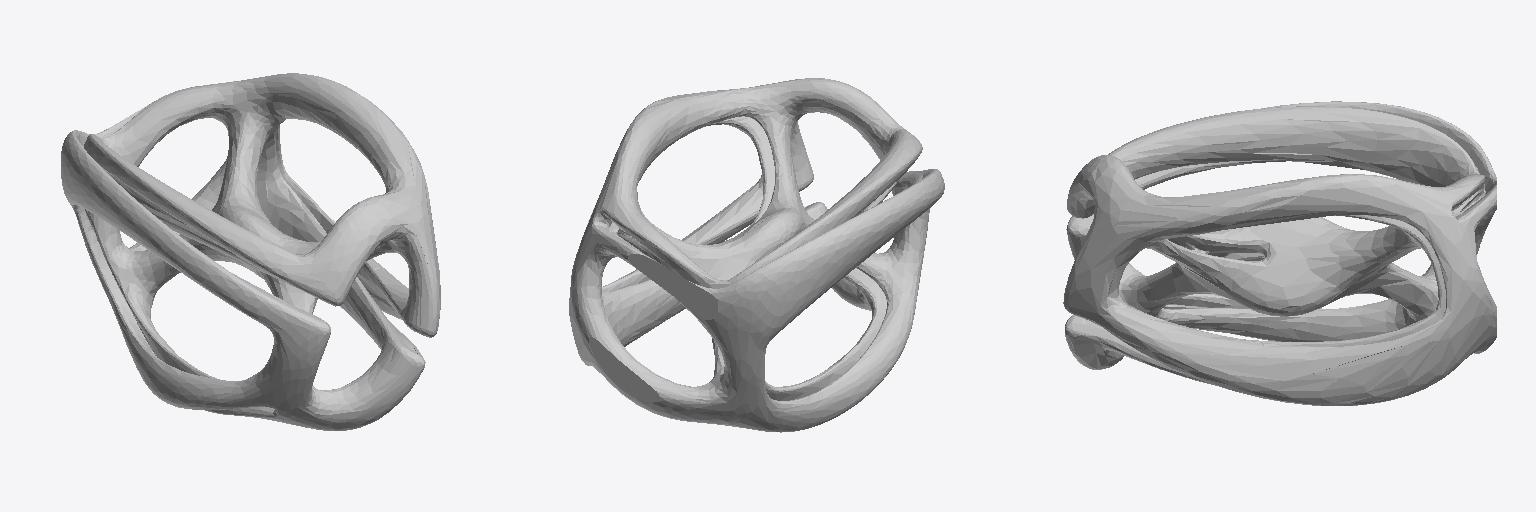
Rendered from Compressed_curves.obj.
3 renders of one model, left to right at view 1: azimuth 30°, elevation 25°; view 2: azimuth 150°, elevation 25°; view 3: azimuth 270°, elevation 25°, orthographic.
Parts seen in each view (by area): view 1: curves_OBJ; view 2: curves_OBJ; view 3: curves_OBJ.
Boxes of the visible parts, x1=… form: curves_OBJ: x1=61, y1=73, x2=440, y2=430; curves_OBJ: x1=569, y1=78, x2=944, y2=432; curves_OBJ: x1=1063, y1=101, x2=1496, y2=405.
Size of the model in its own units: 246 by 226 by 342.